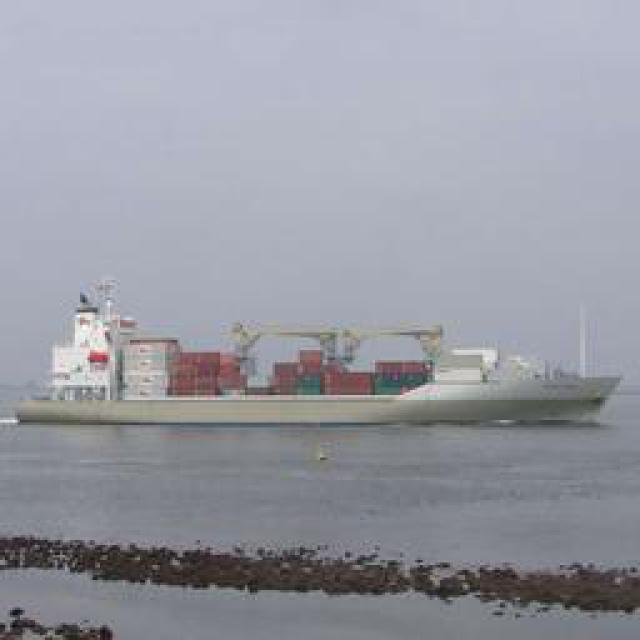Ship: (1, 311, 629, 426)
